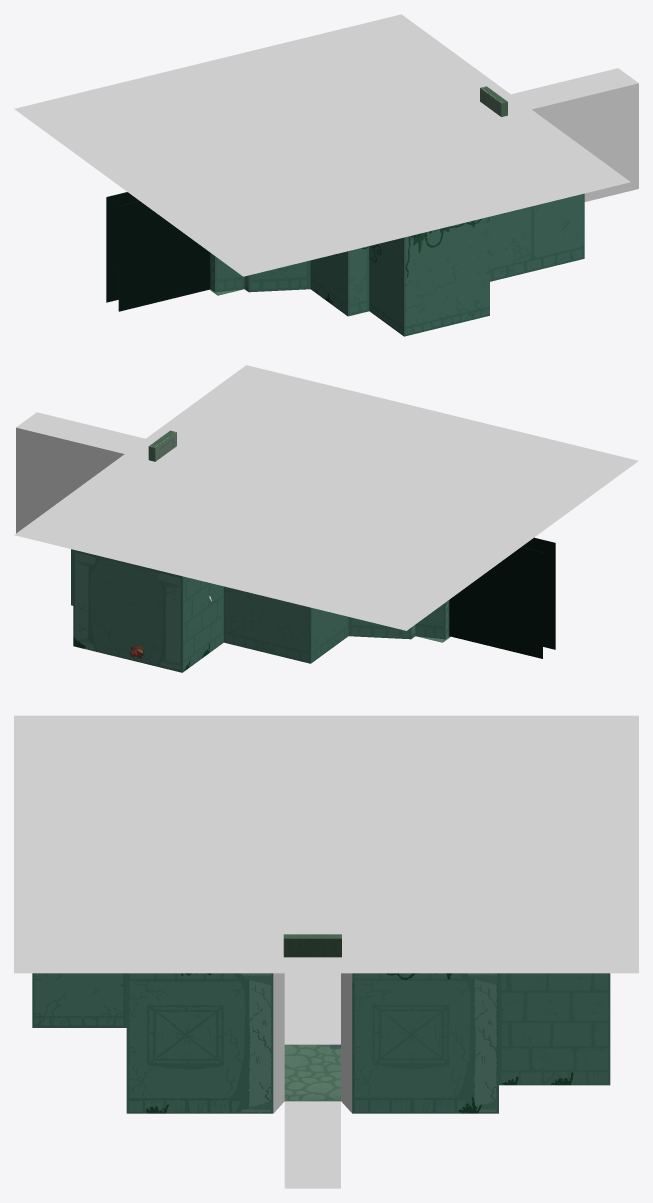
Rendered from Fackla.V3.fbx.
3 views of the same model, one above another, from view 1: azimuth 30°, elevation 25°; view 2: azimuth 150°, elevation 25°; view 3: azimuth 270°, elevation 25° (orthographic). The views are drawn at different scales.
Visible parts, largest first — view 1: Tak, Väggar, Ingång, Dörr; view 2: Tak, Väggar, Ingång, Dörr; view 3: Tak, Väggar, Ingång, Golv, Dörr.
Part boxes in pixels (x1,y1,x2,y2): Tak: [14, 14, 630, 276]; Väggar: [106, 192, 584, 336]; Ingång: [503, 68, 638, 201]; Dörr: [480, 86, 507, 116]; Tak: [14, 365, 638, 630]; Väggar: [71, 537, 555, 672]; Ingång: [16, 412, 150, 533]; Dörr: [148, 430, 176, 461]; Tak: [14, 715, 638, 973]; Väggar: [32, 973, 610, 1113]; Ingång: [273, 957, 352, 1188]; Golv: [284, 1044, 340, 1101]; Dörr: [283, 934, 341, 957].
Bounding box in the file's own units: 2556 × 578 × 1967.
